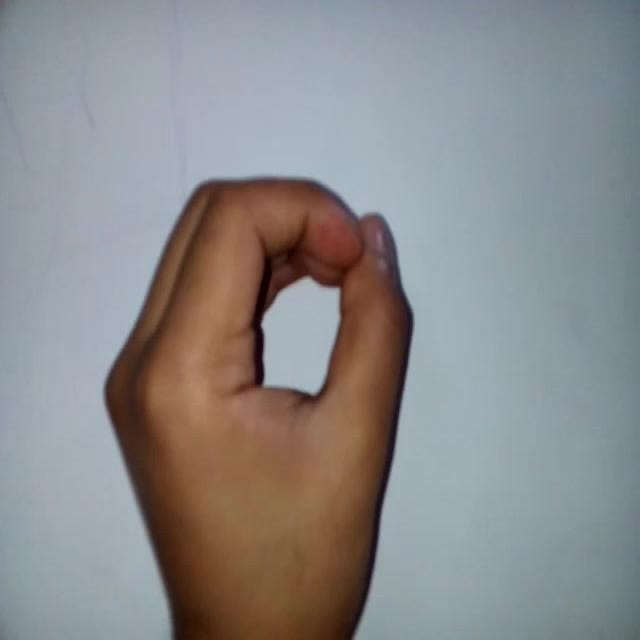O: (92, 142, 428, 640)
